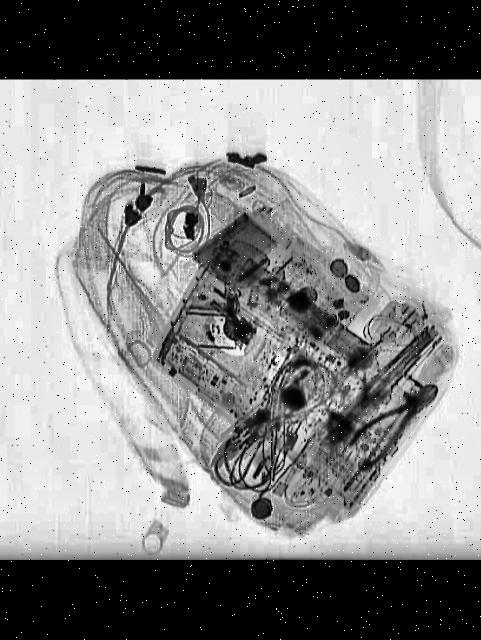Pliers: (336, 374, 450, 471)
